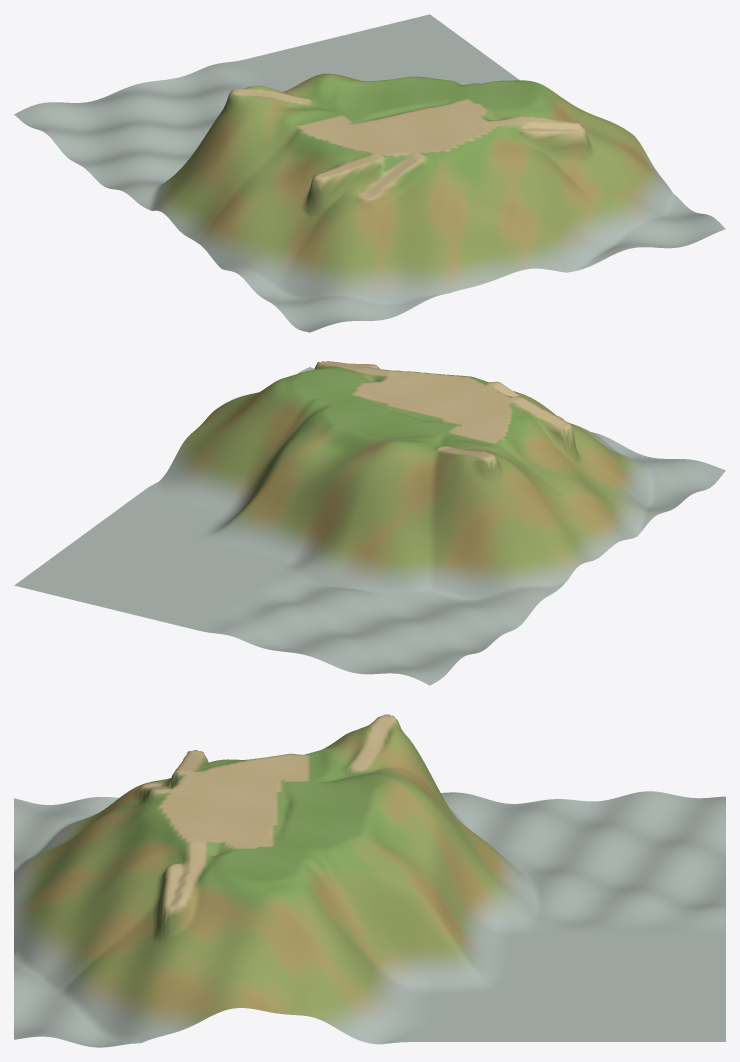
File: terrain.glb
3 renders of one model, top to bottom at view 1: azimuth 30°, elevation 25°; view 2: azimuth 150°, elevation 25°; view 3: azimuth 270°, elevation 25°, orthographic. The views are drawn at different scales.
Visible parts, largest first — view 1: terrain; view 2: terrain; view 3: terrain.
Boxes of the visible parts, left/top/right/bottom form: terrain: left=14, top=14, right=725, bottom=332; terrain: left=14, top=361, right=725, bottom=685; terrain: left=14, top=714, right=725, bottom=1047.
Size of the model in its own units: 43.8 by 11.39 by 54.
